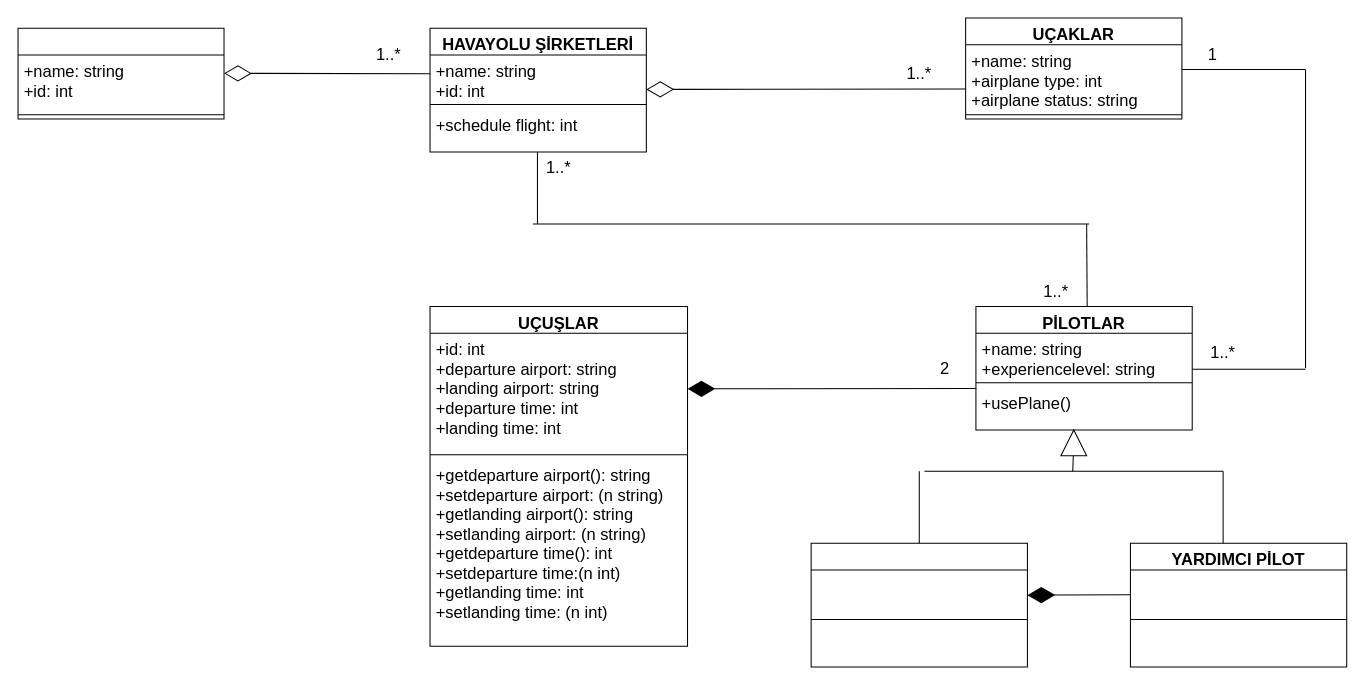
The diagram is 1365 pixels wide and 688 high, and some of its shapes have lost their labels. The box of each missing label's shape, as (x1, y1, x2, y2) in pixels:
HAVAALANLARI: (17, 27, 224, 119)
KAPTAN PİLOT: (810, 542, 1027, 667)
